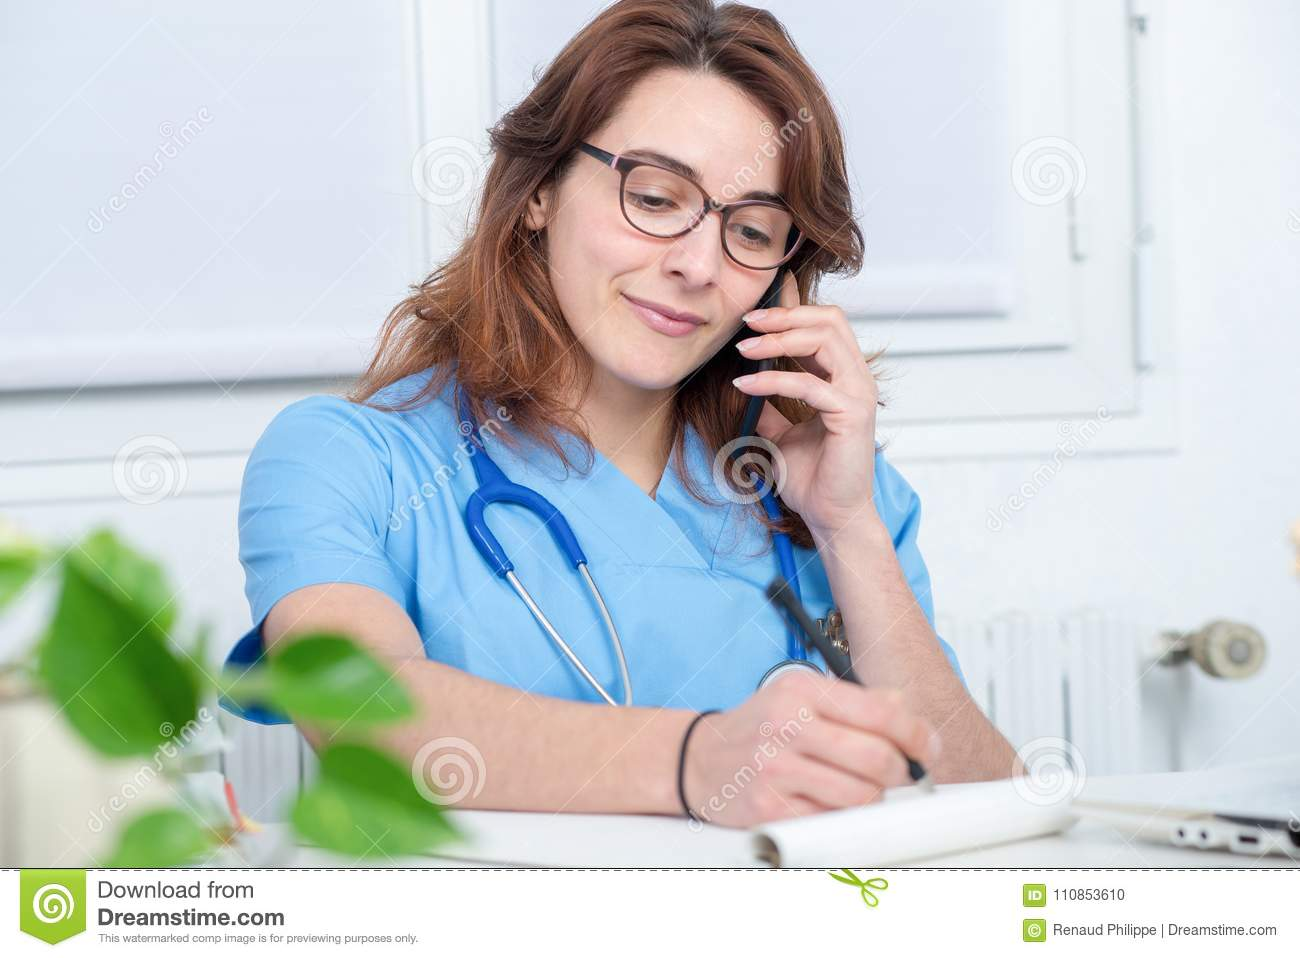phone: (733, 264, 783, 468)
talk: (575, 135, 881, 546)
